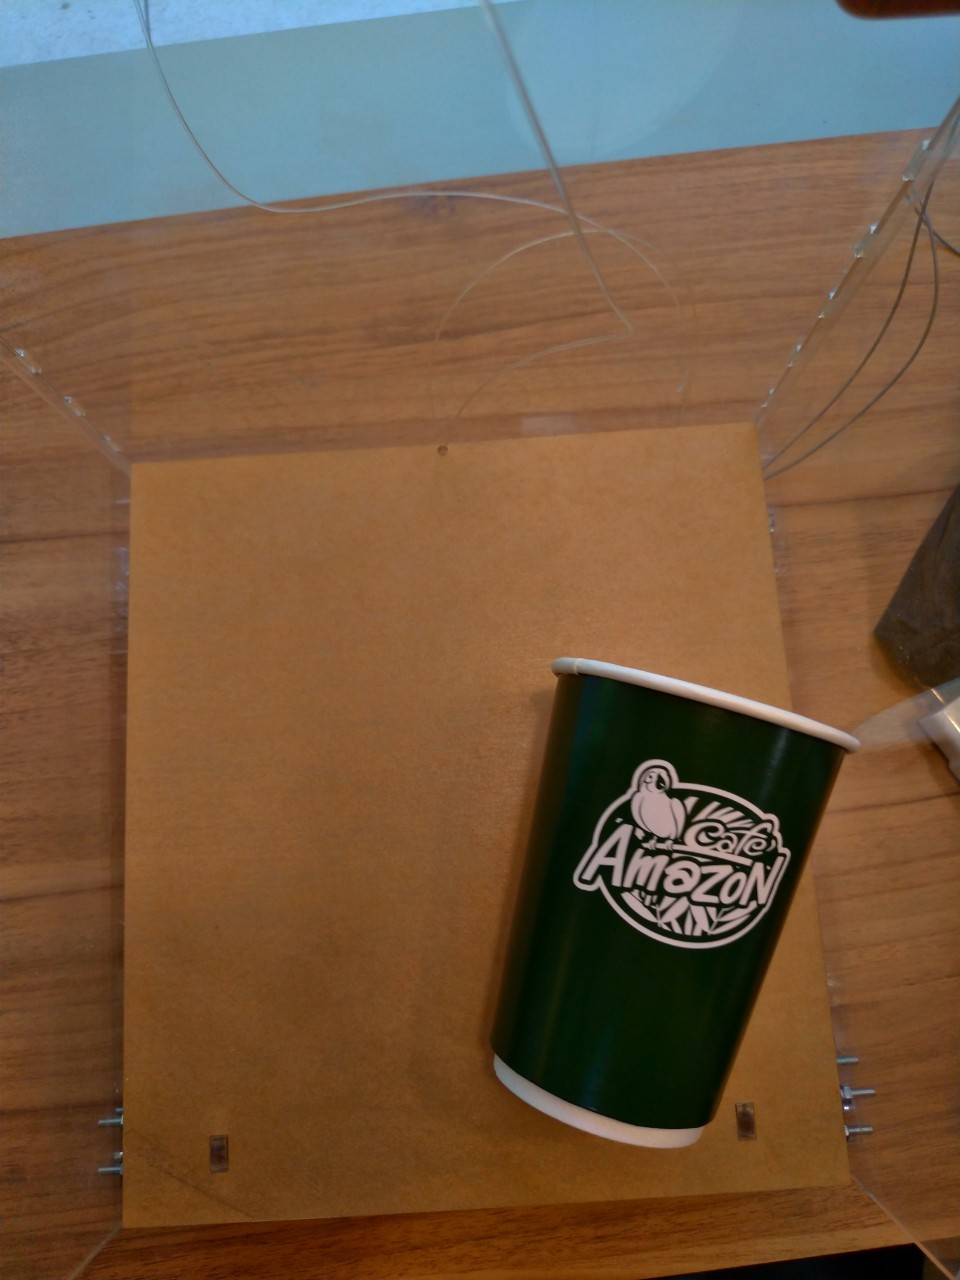PaperCup: (490, 653, 859, 1149)
